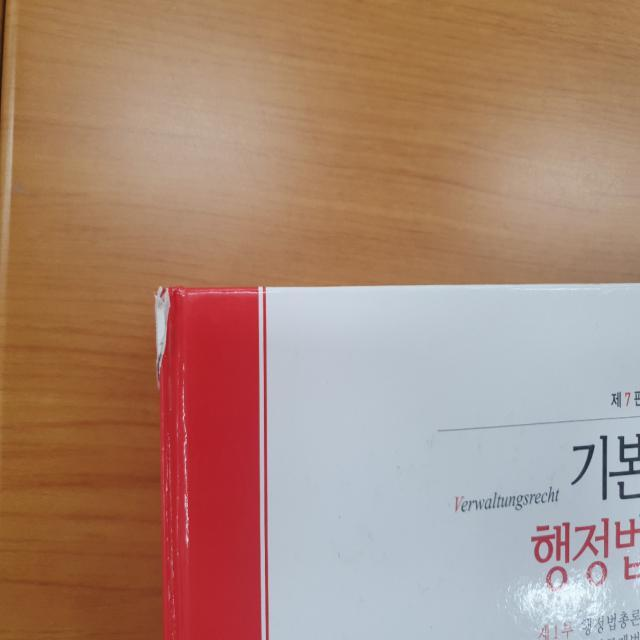Ripped: (151, 281, 175, 391)
